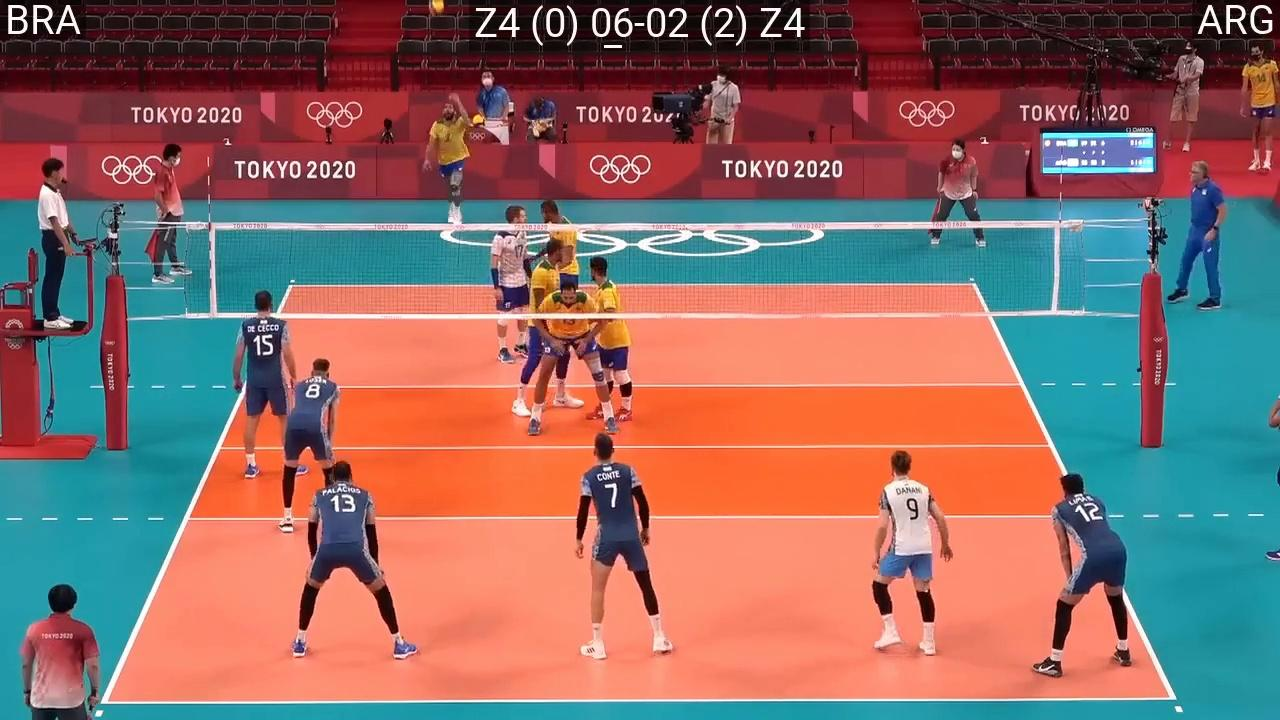ball: (429, 0, 446, 17), (471, 113, 486, 129)
